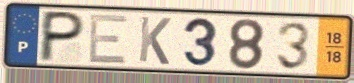3: (180, 16, 223, 69), (276, 21, 312, 71)
8: (228, 17, 267, 71)
E: (86, 13, 130, 66)
K: (137, 14, 174, 67)
P: (36, 9, 88, 64)
